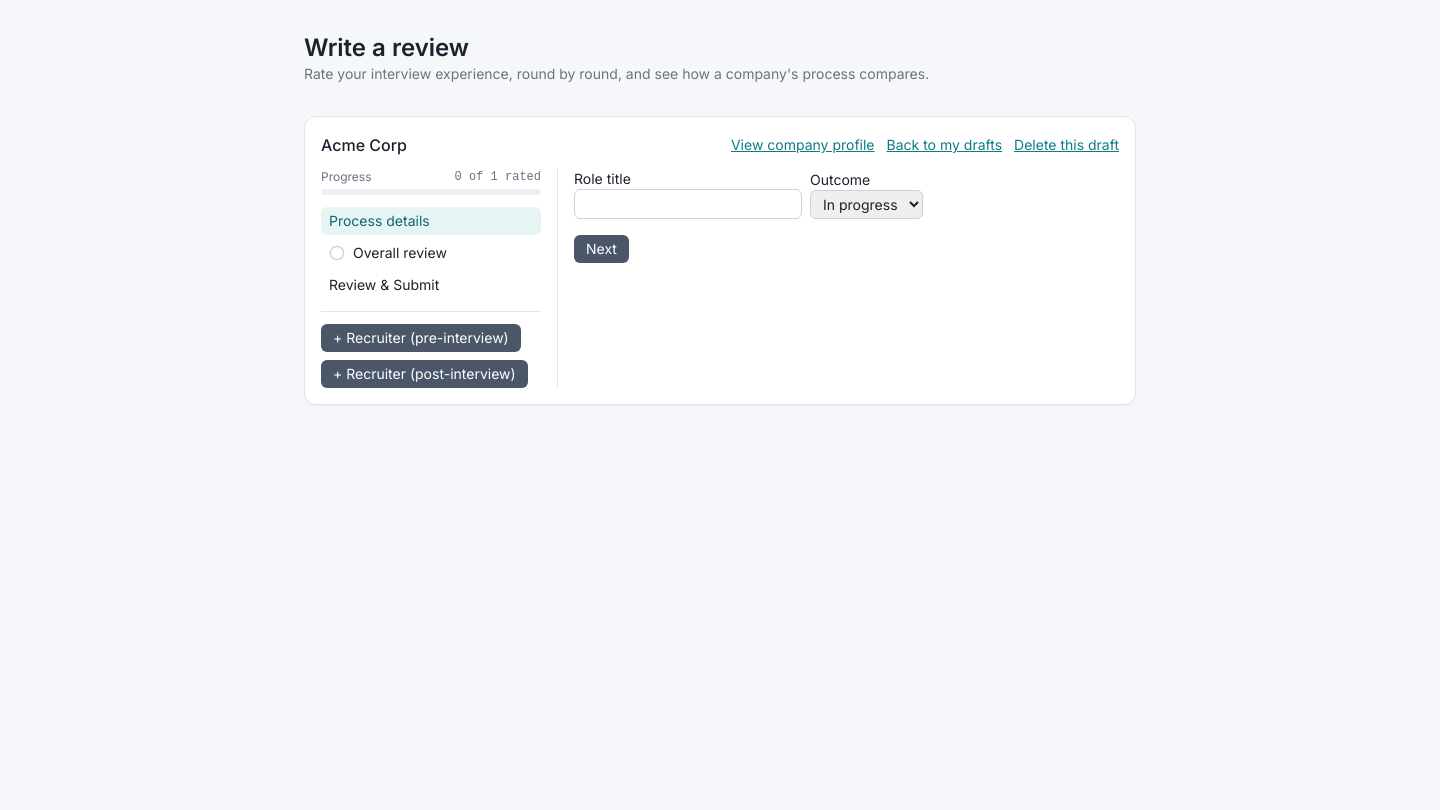
Test: Non-blocking recruiter-touchpoint reminders on submit (GitHub issue #307) › reminds about both missing touchpoints when neither exists, without blocking submission
Expected: the heading "Acme Corp" is shown, [321, 133, 407, 157]
Type "Backend Engineer" into the field labelled "Role title". click: (688, 204)
box: [574, 189, 802, 219]
Click the button "Next". click: (601, 249)
box: [574, 235, 629, 263]
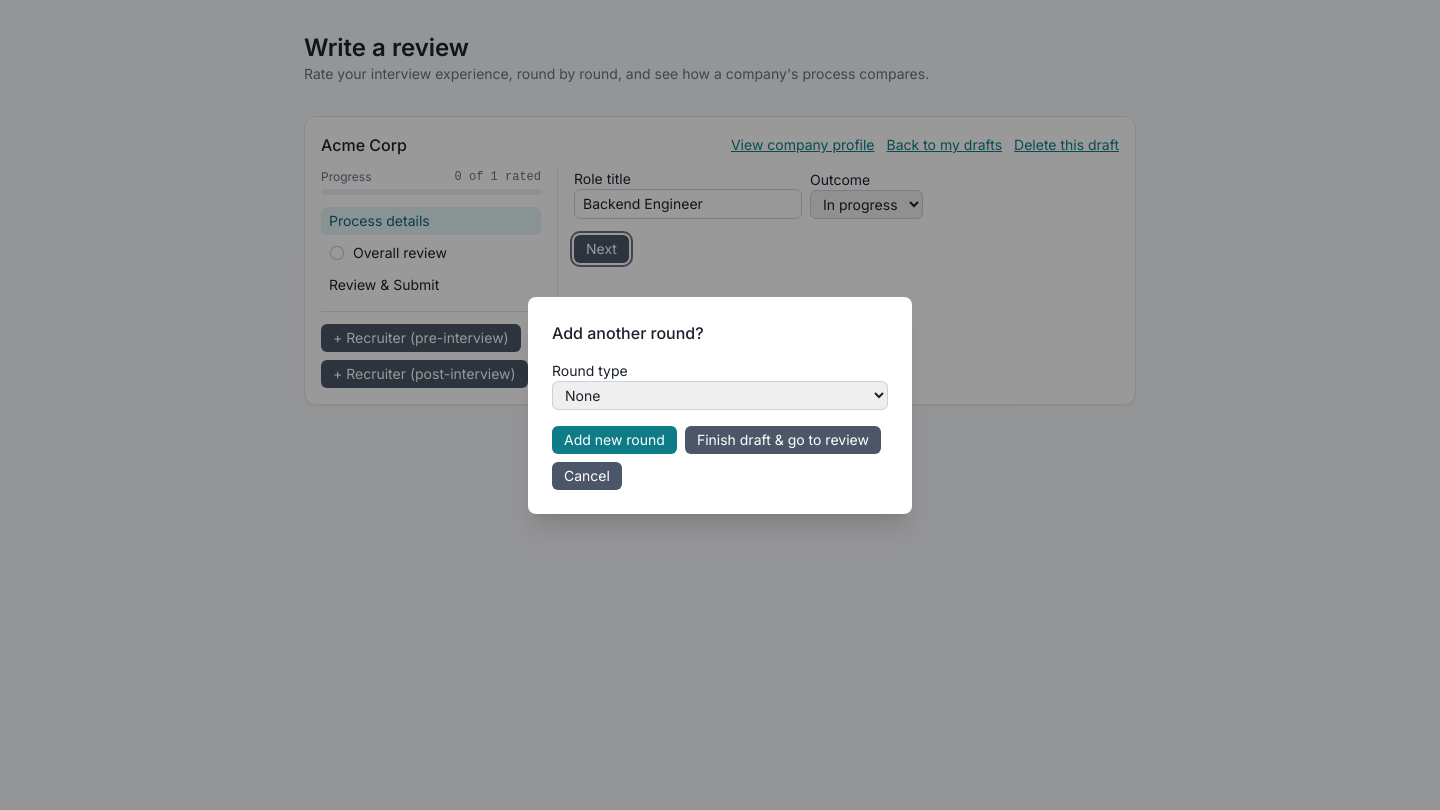
Select "Coding" in the dropdown labelled "Round type". click: (720, 395)
box: [552, 380, 888, 410]
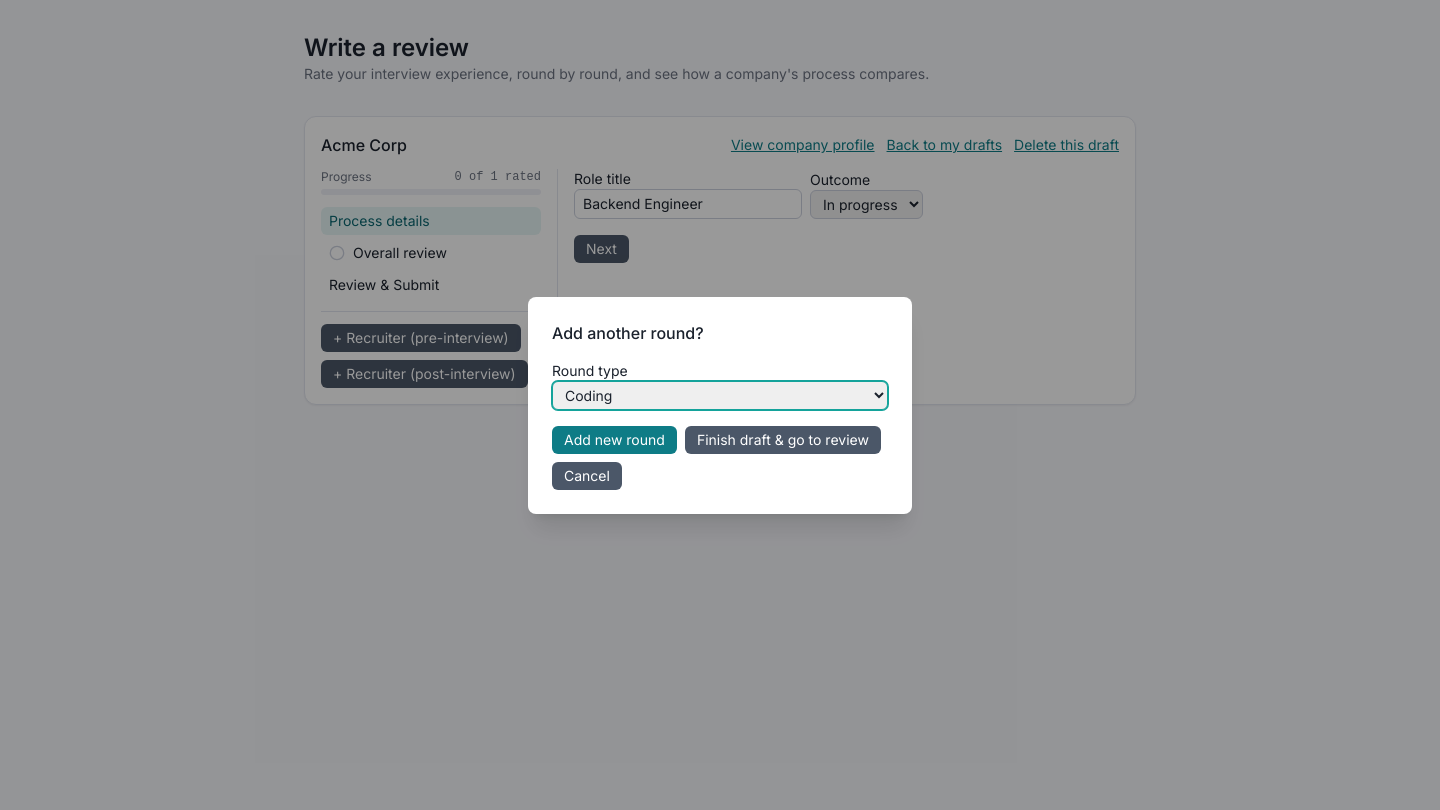
Click the button "Add new round". click: (614, 440)
box: [552, 426, 677, 454]
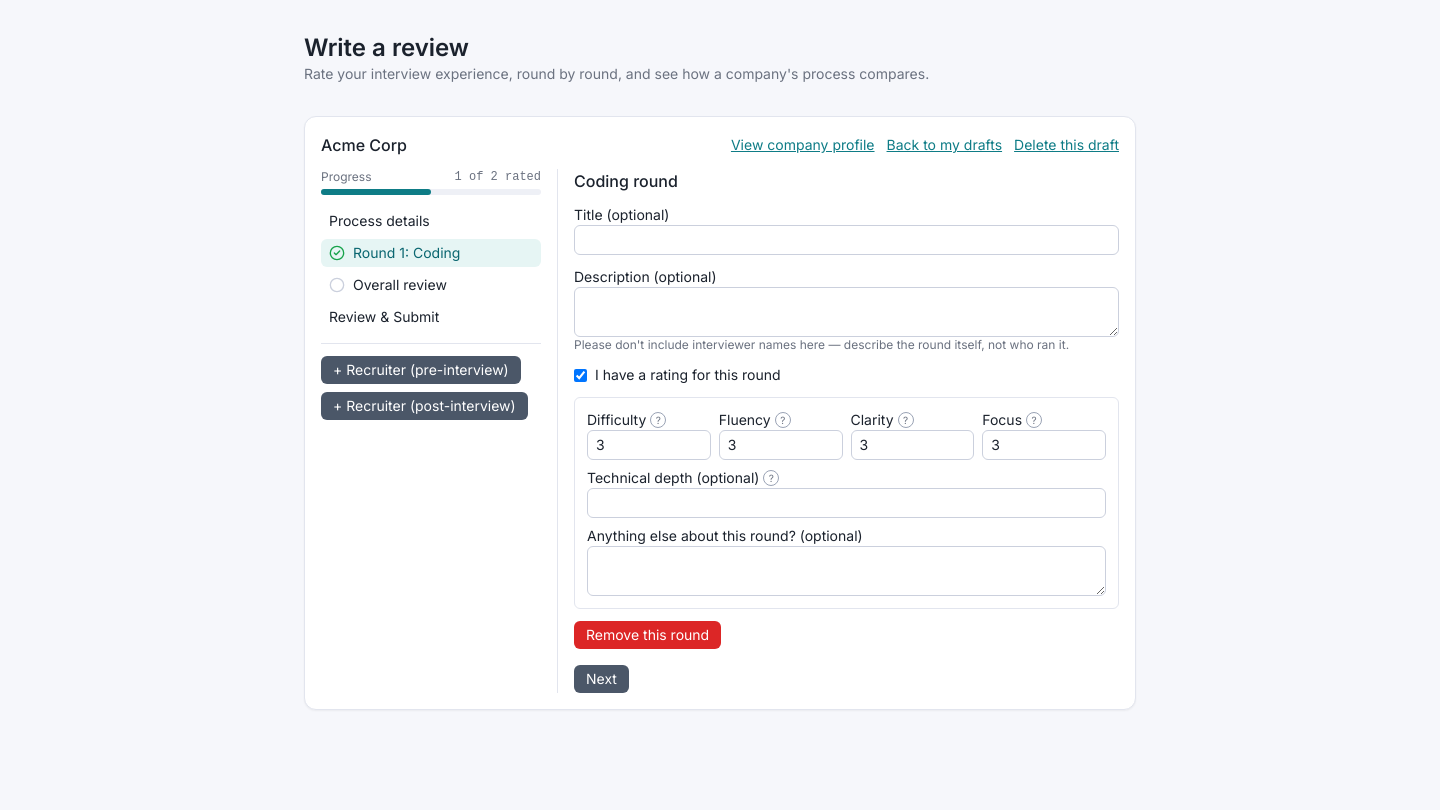
Type "Screen" into the field labelled "Title (optional)". click: (846, 240)
box: [574, 225, 1119, 255]
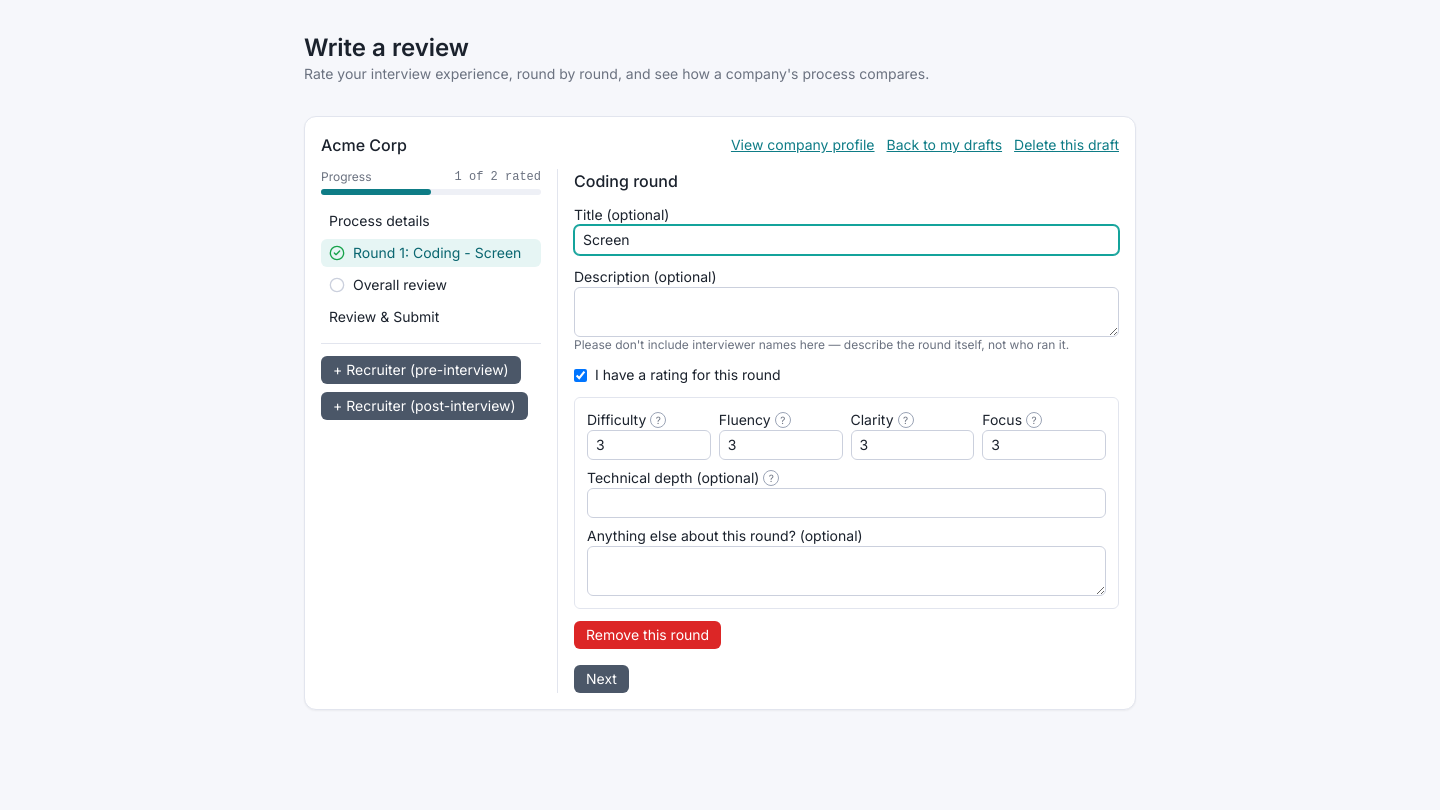
Click the button "Review & Submit". click: (431, 317)
box: [321, 303, 541, 331]
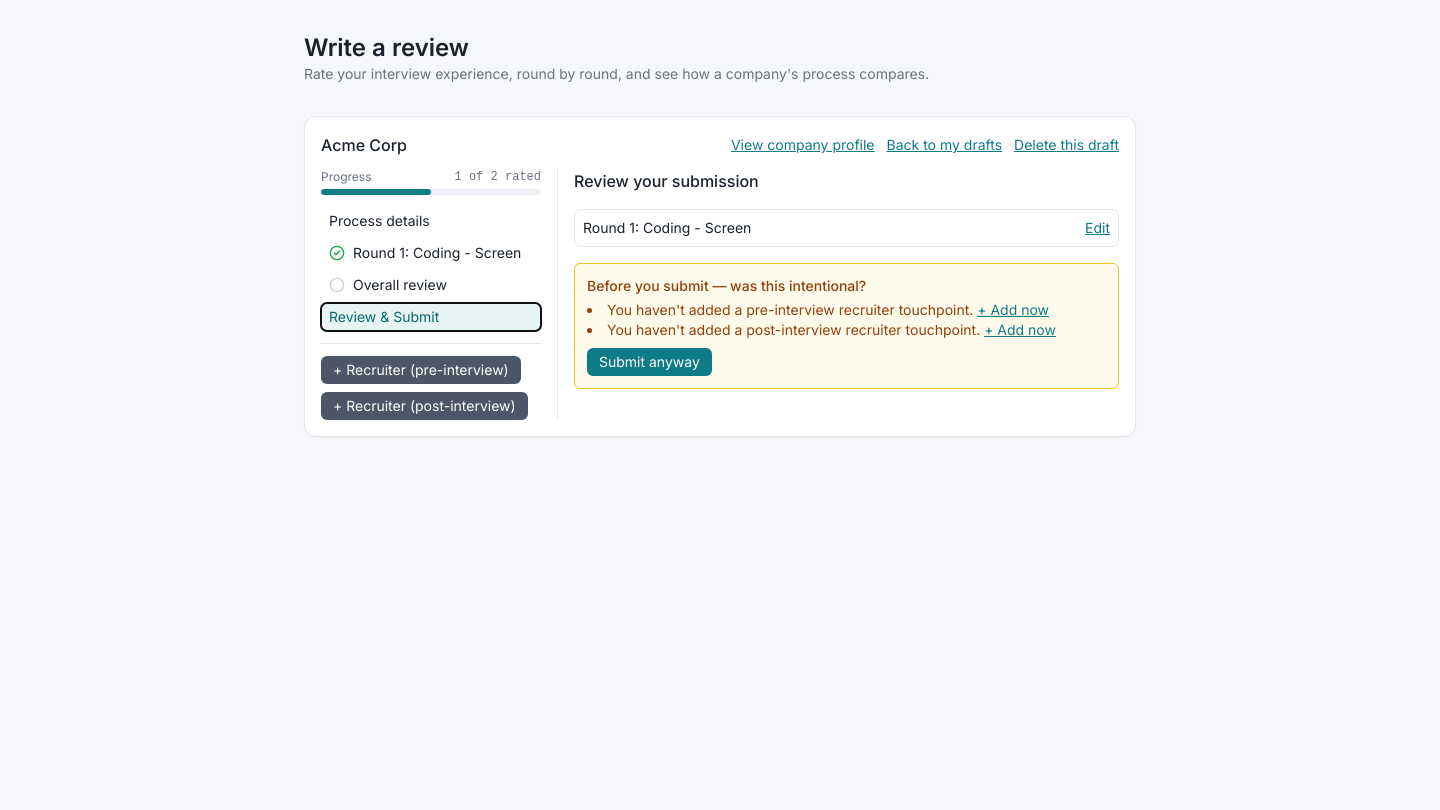
Result: the text "Before you submit — was this intentional?" is shown at [587, 277, 866, 294]
Result: the list item "You haven't added a pre-interview recruiter touchpoint." is shown at [607, 301, 973, 318]
Result: the list item "You haven't added a post-interview recruiter touchpoint." is shown at [607, 321, 980, 338]
Click the button "Submit anyway". click: (649, 362)
box: [587, 348, 712, 376]
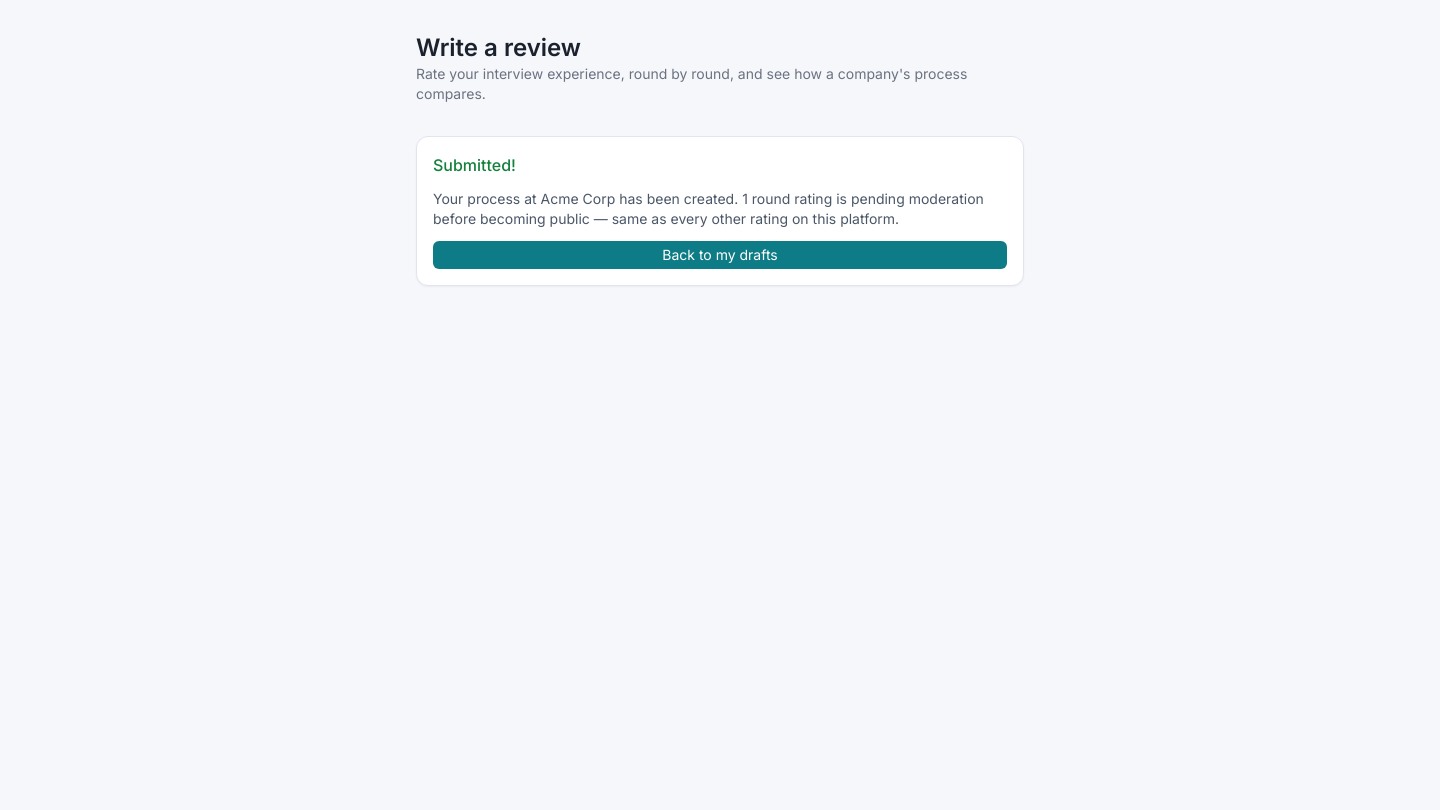
Result: the heading "Submitted!" is shown at [433, 155, 516, 175]
